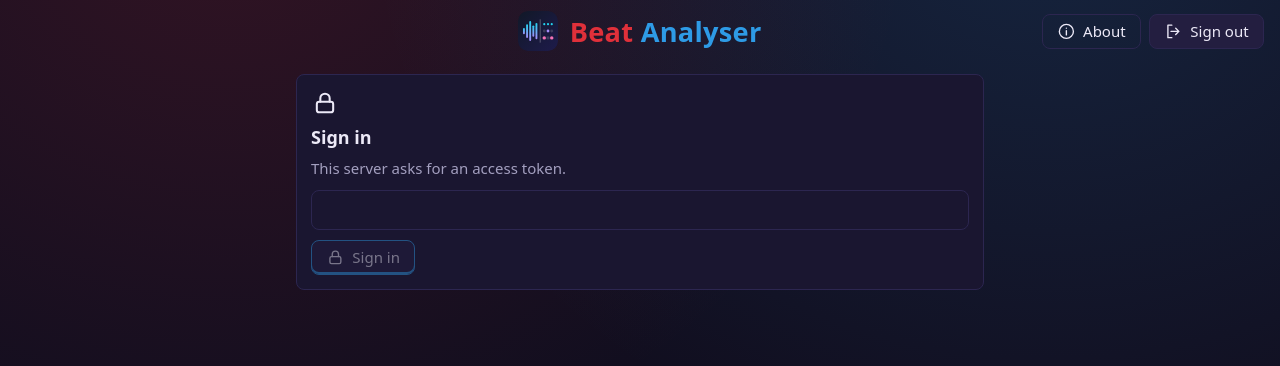
App sign-in › keeps the page and shows the refusal on a wrong token
Type "bad" into the password field named "Access token".
click(640, 210); type("bad")  # box [311,190,969,230]
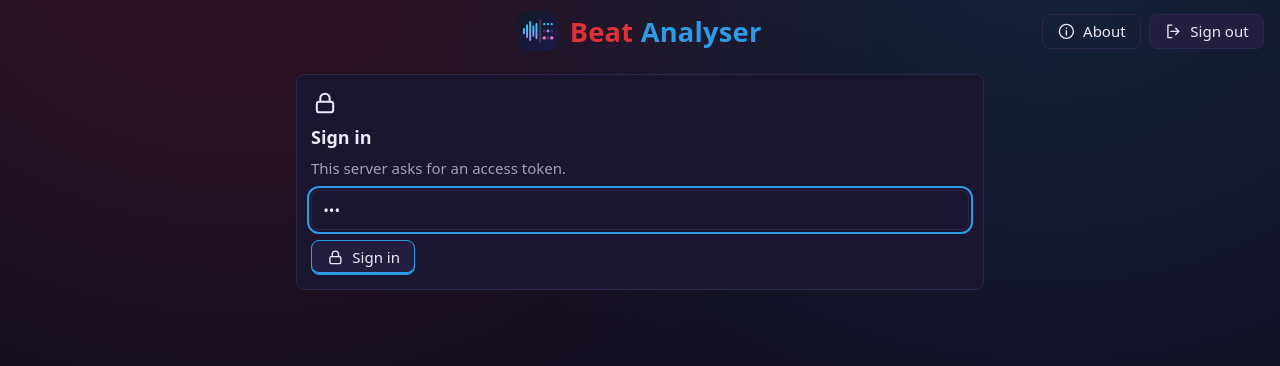
Click the button "Sign in".
click(363, 257)  # box [311,240,415,275]
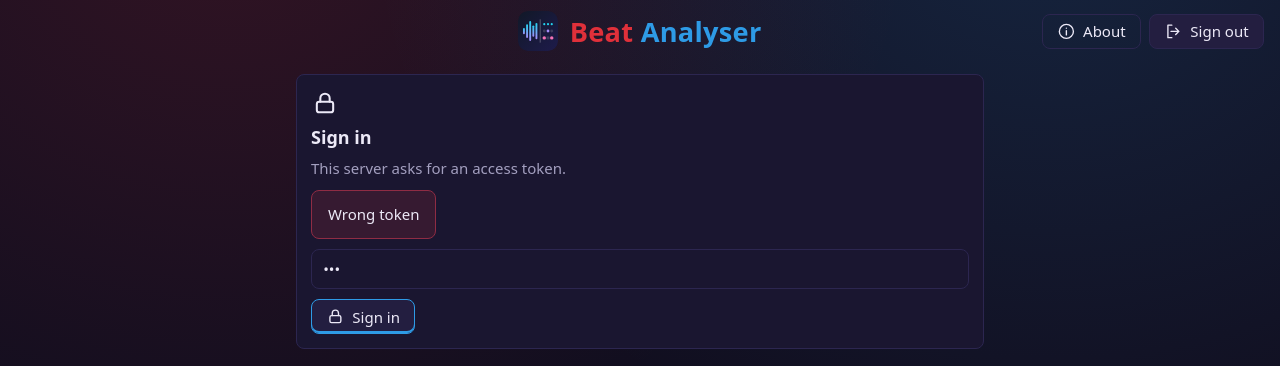
Now the text "Wrong token" is shown, box [328,204,419,226]
